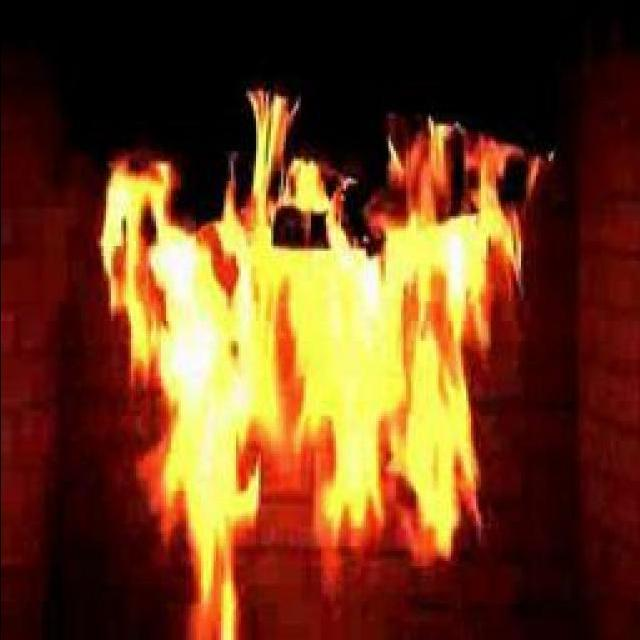Fire: (120, 147, 459, 531)
